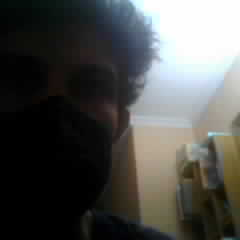with_mask: (2, 24, 119, 216)
